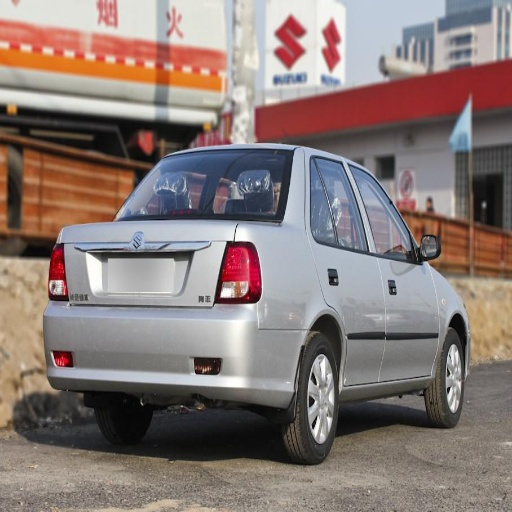back_bumper: (43, 301, 303, 405)
back_right_door: (308, 153, 385, 386)
tailgate: (64, 214, 237, 307)
